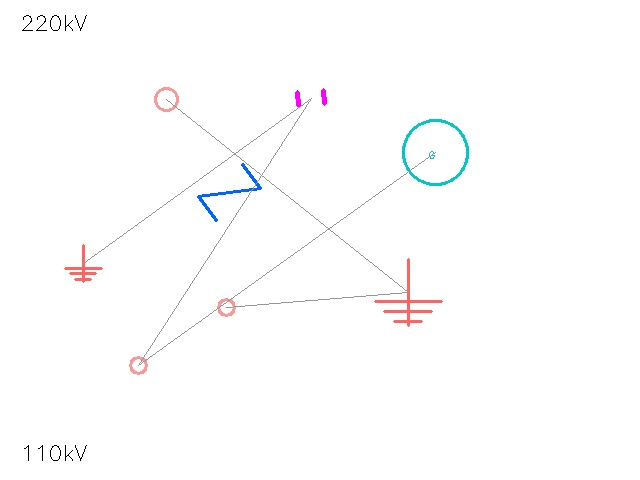capacitor: (289, 76, 333, 120)
circuit_breaker: (199, 162, 259, 222)
disconnect_switch: (209, 290, 243, 324)
generator: (403, 120, 467, 184)
ground: (375, 259, 441, 325), (65, 245, 101, 281)
surge_arrester: (143, 76, 189, 122), (121, 348, 155, 382)
